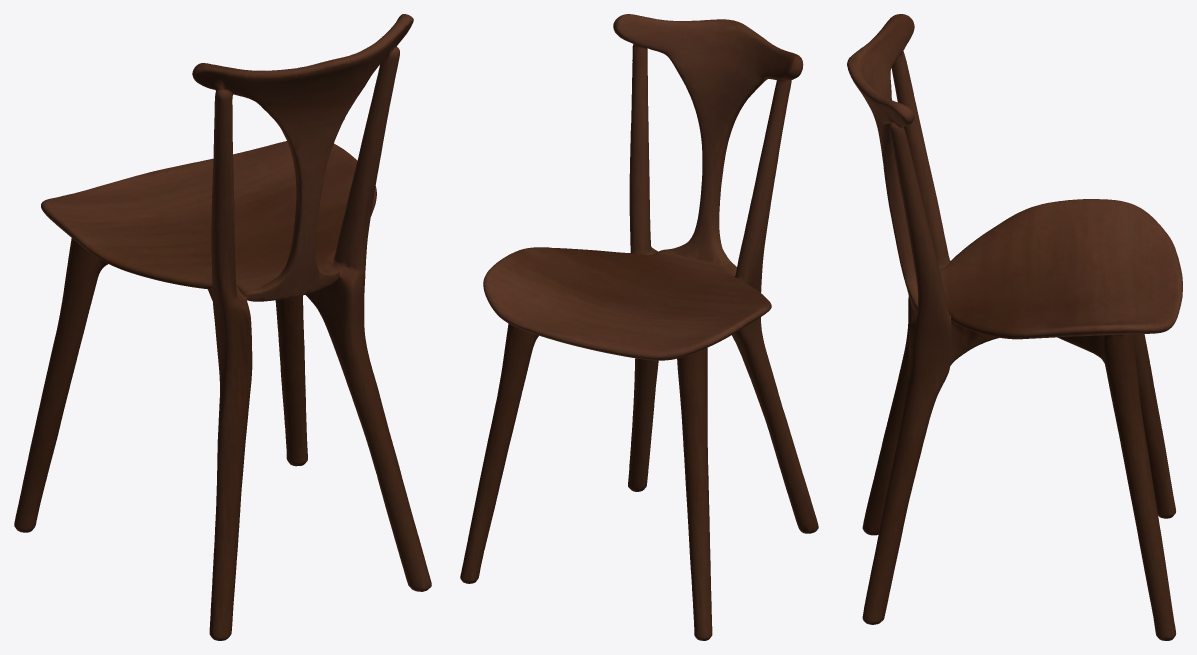
File: sculpted-walnut-side-chair.glb
3 views of the same model, side by side, from view 1: azimuth 30°, elevation 25°; view 2: azimuth 150°, elevation 25°; view 3: azimuth 270°, elevation 25° (orthographic). The views are drawn at different scales.
Parts seen in each view (by area): view 1: world; view 2: world; view 3: world.
Boxes of the visible parts, x1,y1,x2,y2 form: world: [14, 14, 431, 640]; world: [460, 14, 818, 640]; world: [847, 14, 1182, 640].
Size of the model in its own units: 0.5427 by 1 by 0.5901.
Materials: 1 (1 with a texture image).
